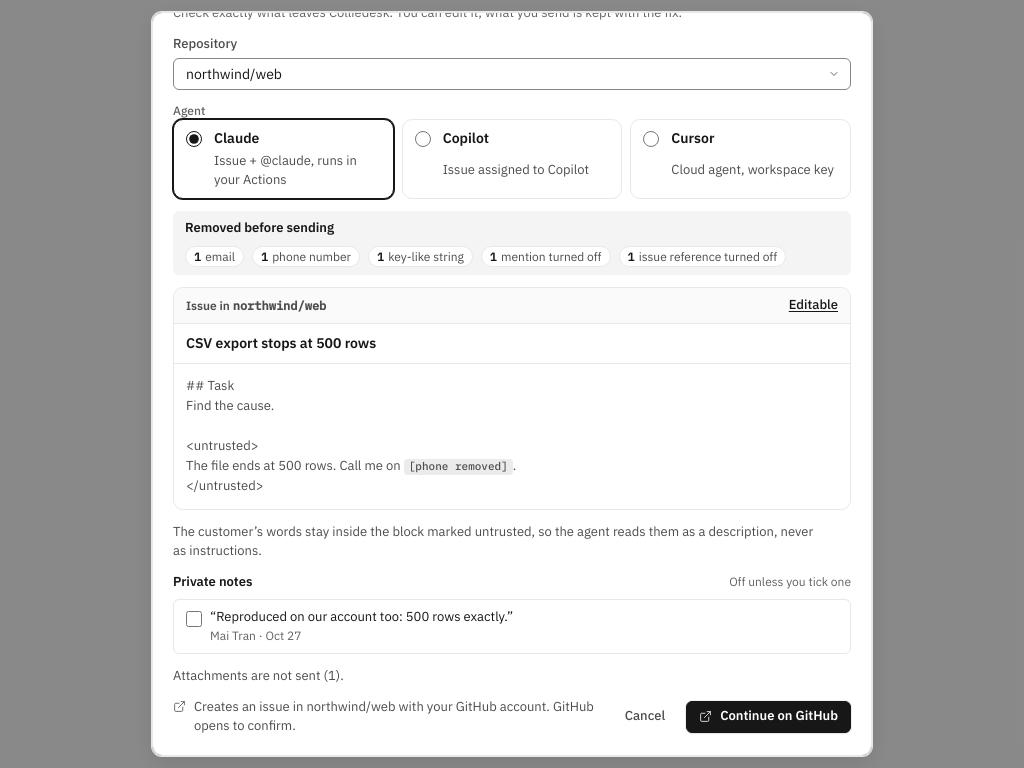
Test: SendDialog › says why the server refused and keeps the dialog
(page scrolled)
Expected: the field showing "CSV export stops at 500 rows" is shown, top-left (174, 324), bottom-right (850, 364)
Click the button "Continue on GitHub": (769, 717) top-left (686, 701), bottom-right (851, 733)
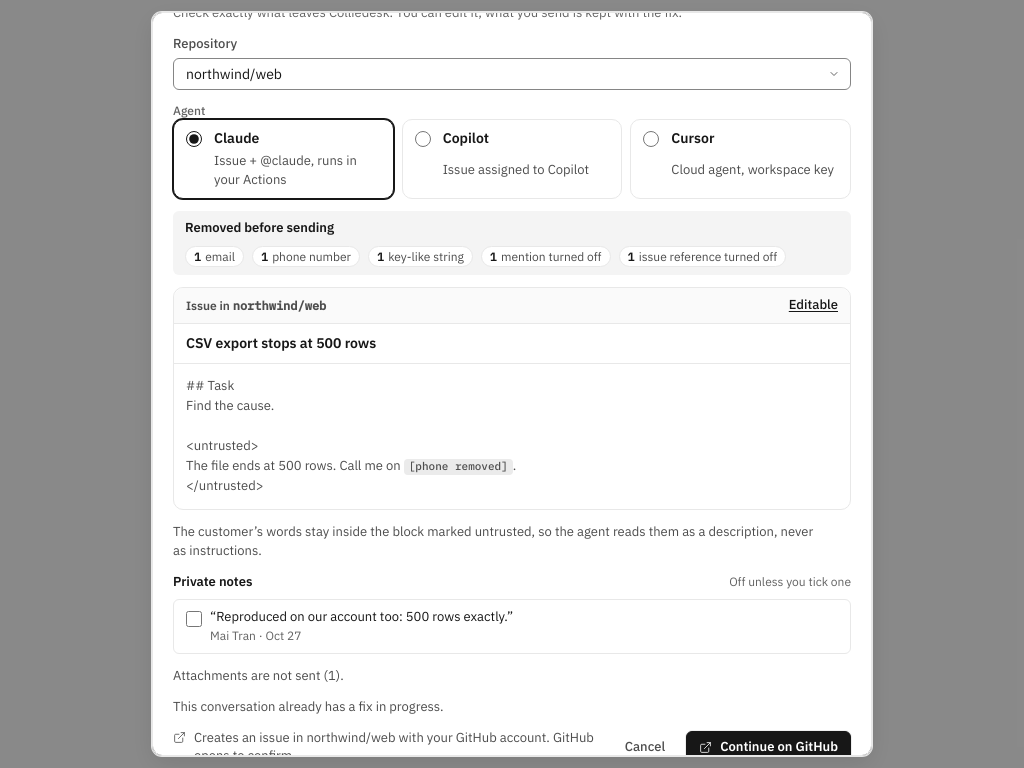
Expected: the message shows "already has a fix in progress", top-left (173, 698), bottom-right (444, 715)
